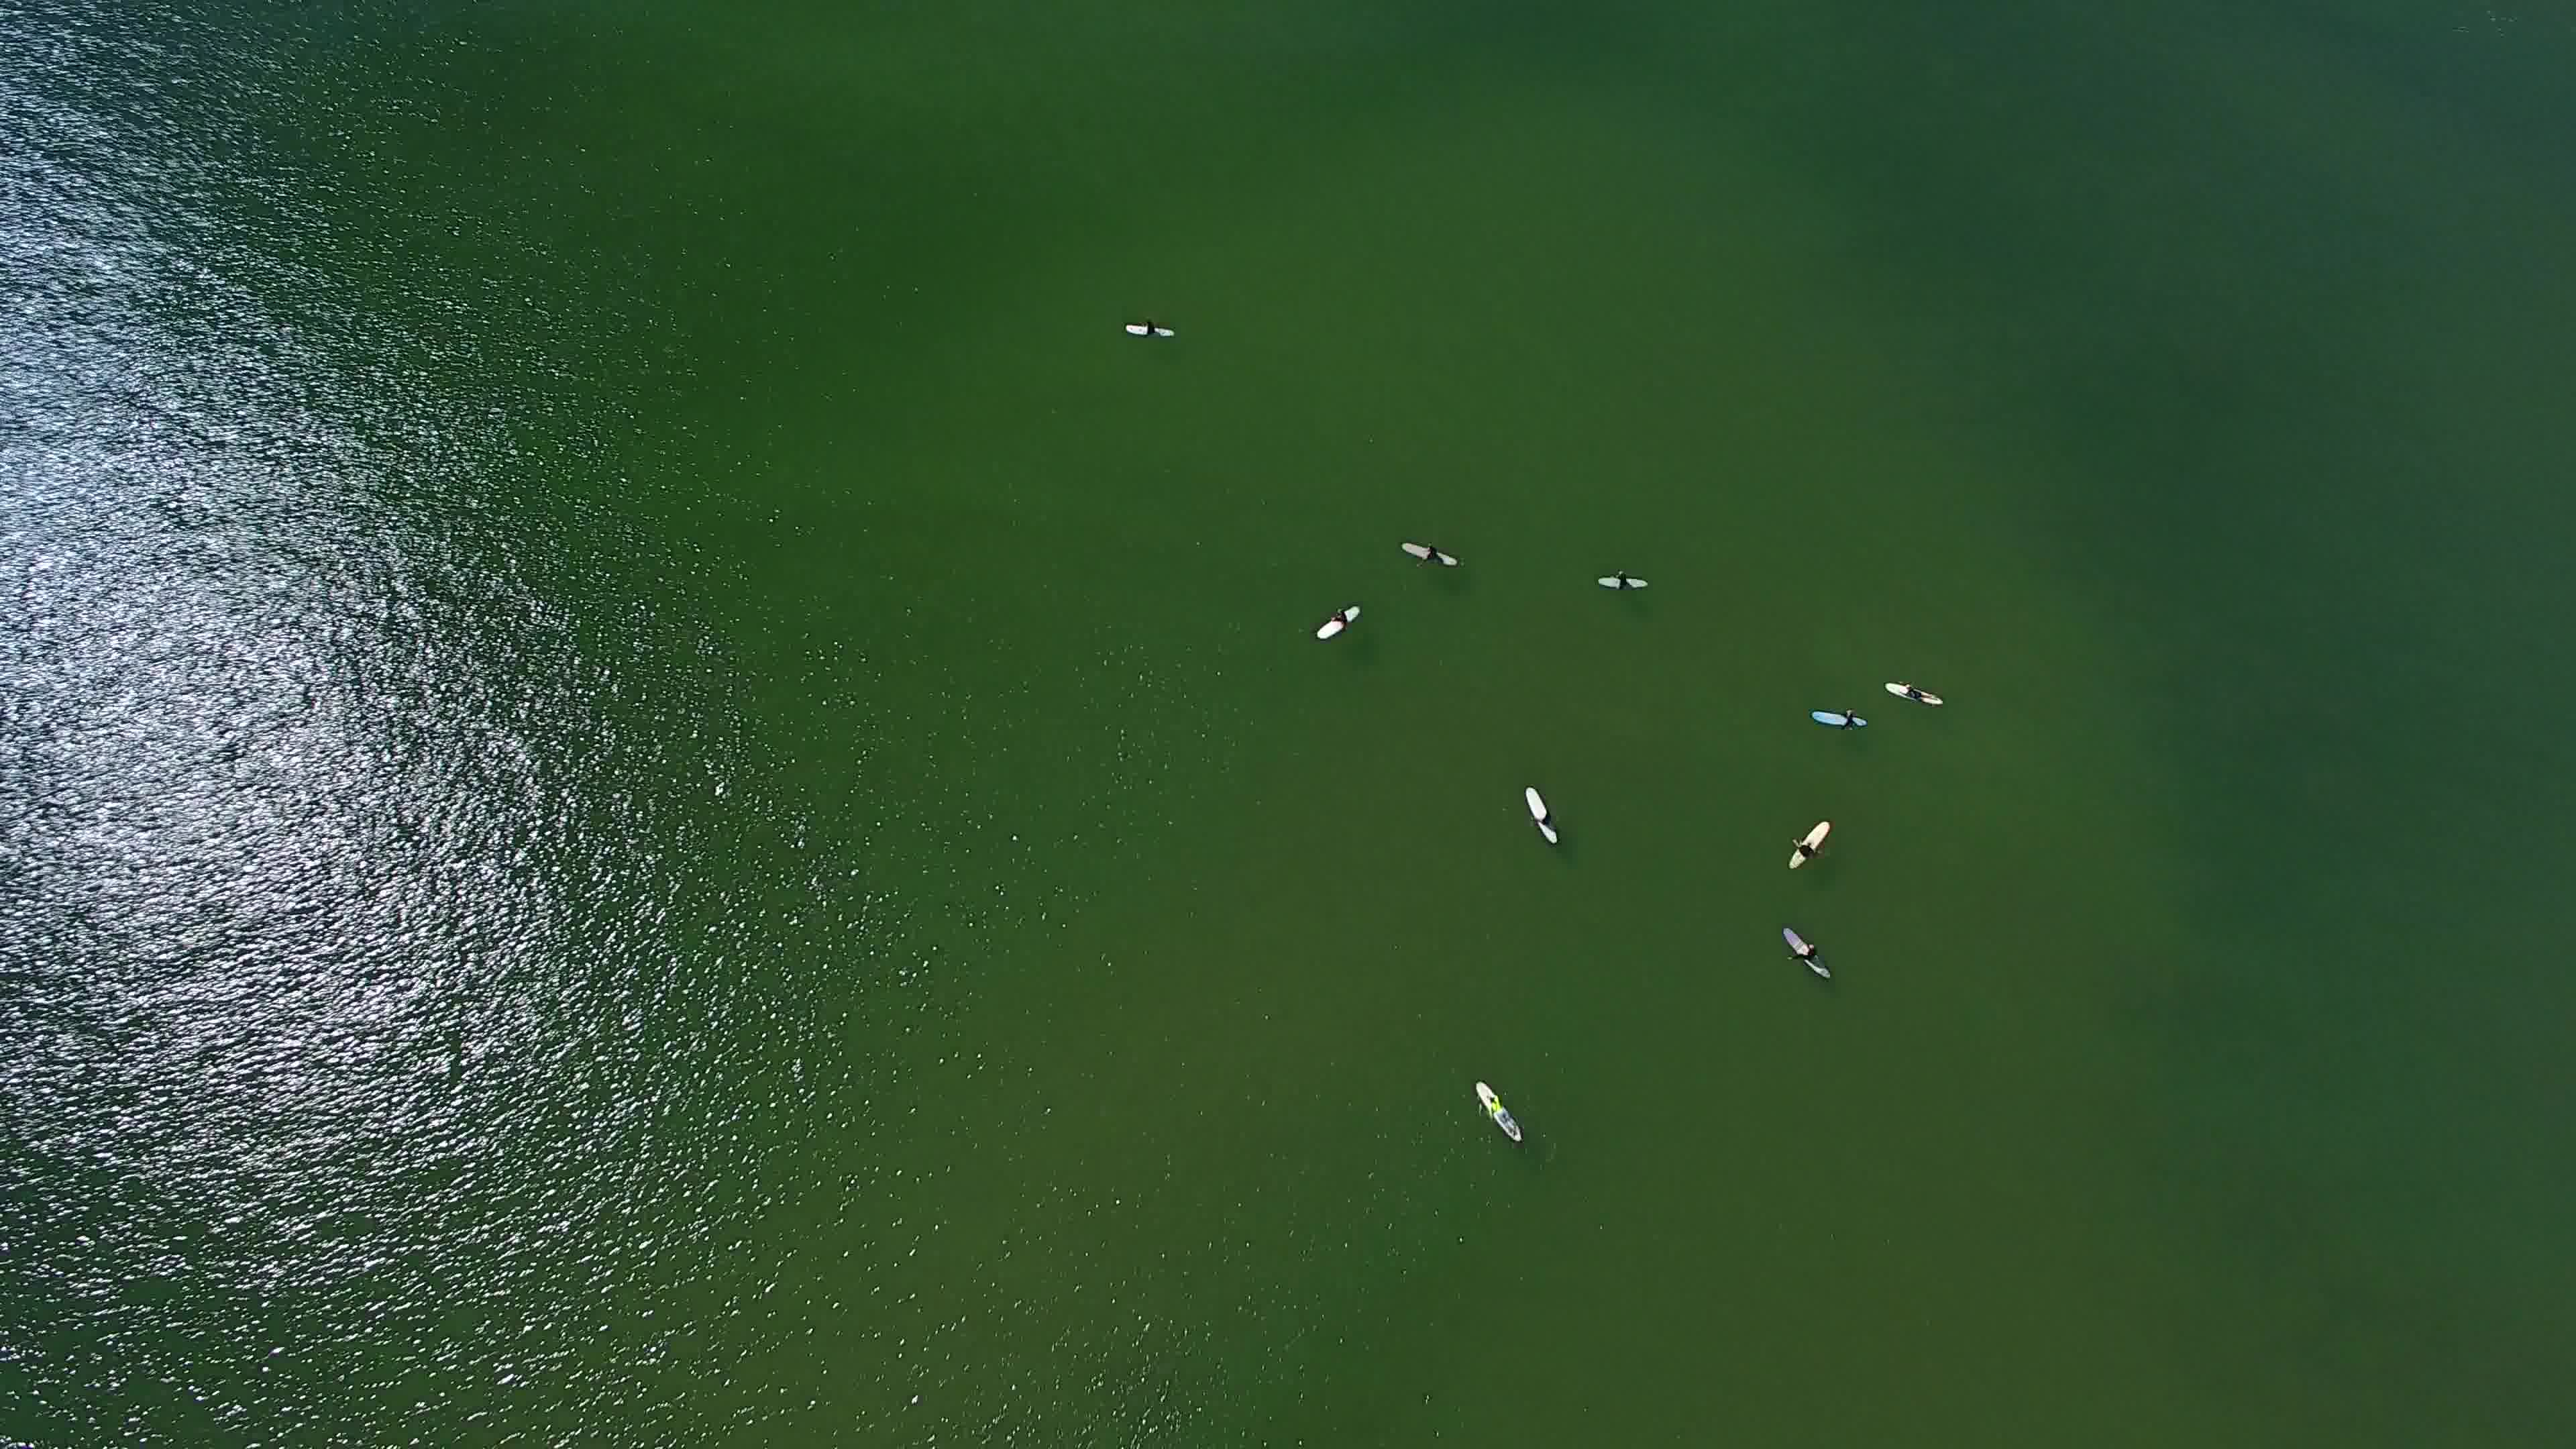surfer: (1458, 1072, 1532, 1152), (1766, 918, 1836, 985), (1514, 782, 1568, 851), (1311, 594, 1375, 651), (1875, 671, 1951, 713), (1785, 823, 1836, 878), (1589, 561, 1658, 602), (1398, 533, 1463, 571), (1806, 702, 1877, 738), (1116, 315, 1184, 349)
